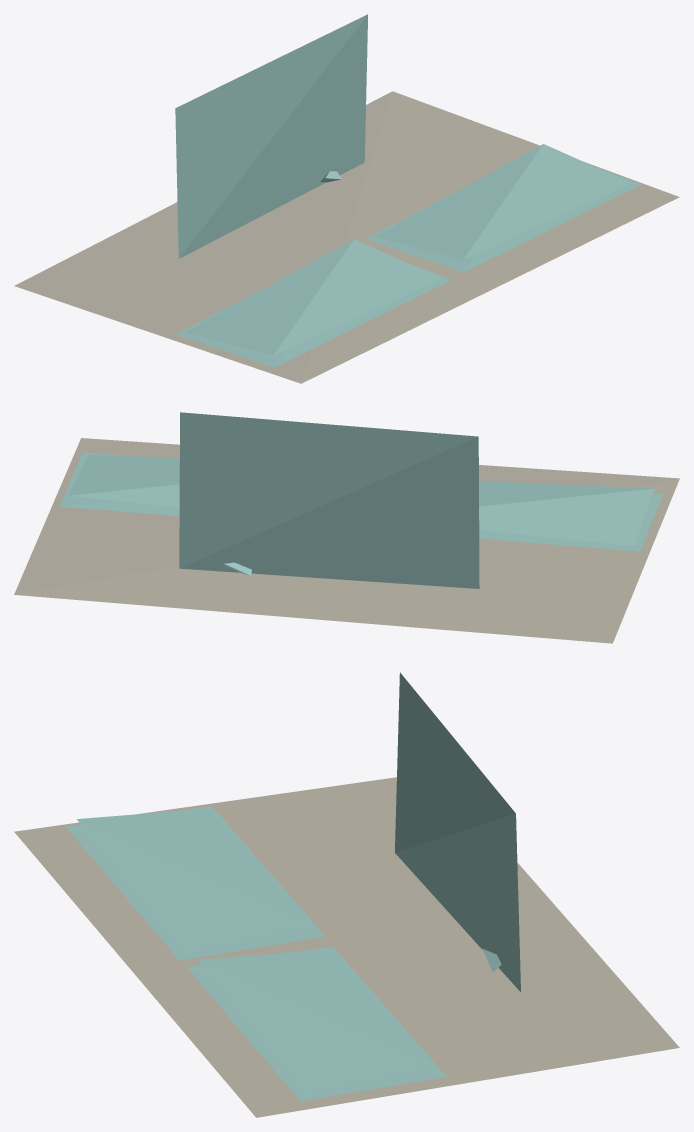
File: auschwitz-monument.lod2.glb
The picture shows the model from 3 angles, top to bottom: view 1: azimuth 30°, elevation 25°; view 2: azimuth 150°, elevation 25°; view 3: azimuth 270°, elevation 25°; orthographic projection. The views are drawn at different scales.
Parts seen in each view (by area): view 1: lod2; view 2: lod2; view 3: lod2.
Boxes of the visible parts, left/top/right/bottom form: lod2: left=14, top=14, right=679, bottom=383; lod2: left=14, top=412, right=679, bottom=643; lod2: left=14, top=672, right=679, bottom=1117.
Size of the model in its own units: 7.64 by 1.9 by 6.2.
